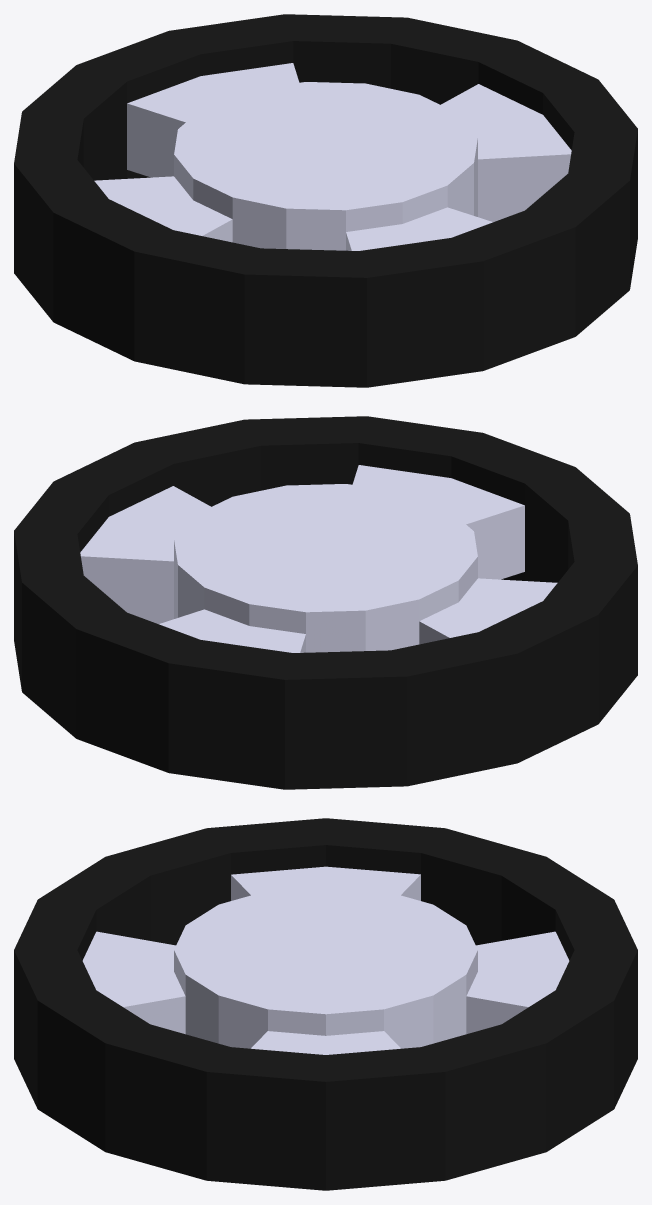
Rendered from scrap_wheel.fbx.
3 renders of one model, top to bottom at view 1: azimuth 30°, elevation 25°; view 2: azimuth 150°, elevation 25°; view 3: azimuth 270°, elevation 25°, orthographic.
Visible parts, largest first — view 1: Wheel, Rim; view 2: Wheel, Rim; view 3: Wheel, Rim.
Part boxes in pixels (x1=…): Wheel: x1=14, y1=14, x2=637, y2=387; Rim: x1=94, y1=63, x2=571, y2=250; Wheel: x1=14, y1=416, x2=637, y2=789; Rim: x1=80, y1=465, x2=557, y2=652; Wheel: x1=14, y1=818, x2=637, y2=1190; Rim: x1=82, y1=866, x2=569, y2=1054.
Size of the model in its own units: 402 by 402 by 77.36.
